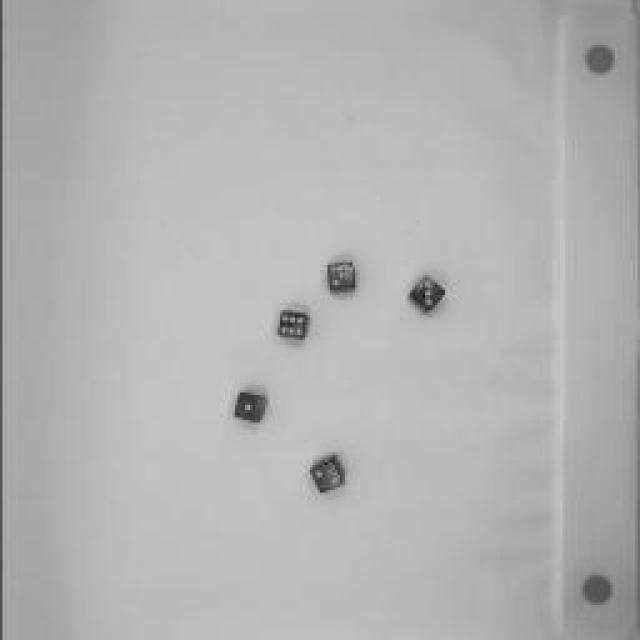dice_1: (230, 388, 270, 428)
dice_2: (305, 450, 345, 495)
dice_3: (402, 272, 450, 316), (318, 254, 362, 298)
dice_6: (271, 305, 311, 345)
